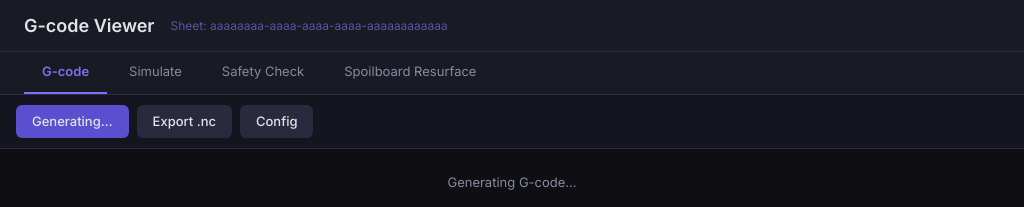
Test case: Tab navigation › clicking Simulate tab shows Run Simulation button
Click the button "Simulate" at (155, 73), box [111,52,200,94]
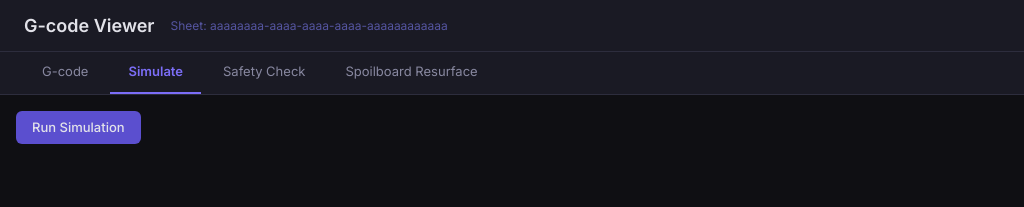
expect the button "Run Simulation" is shown: met, box [16,110,141,144]
